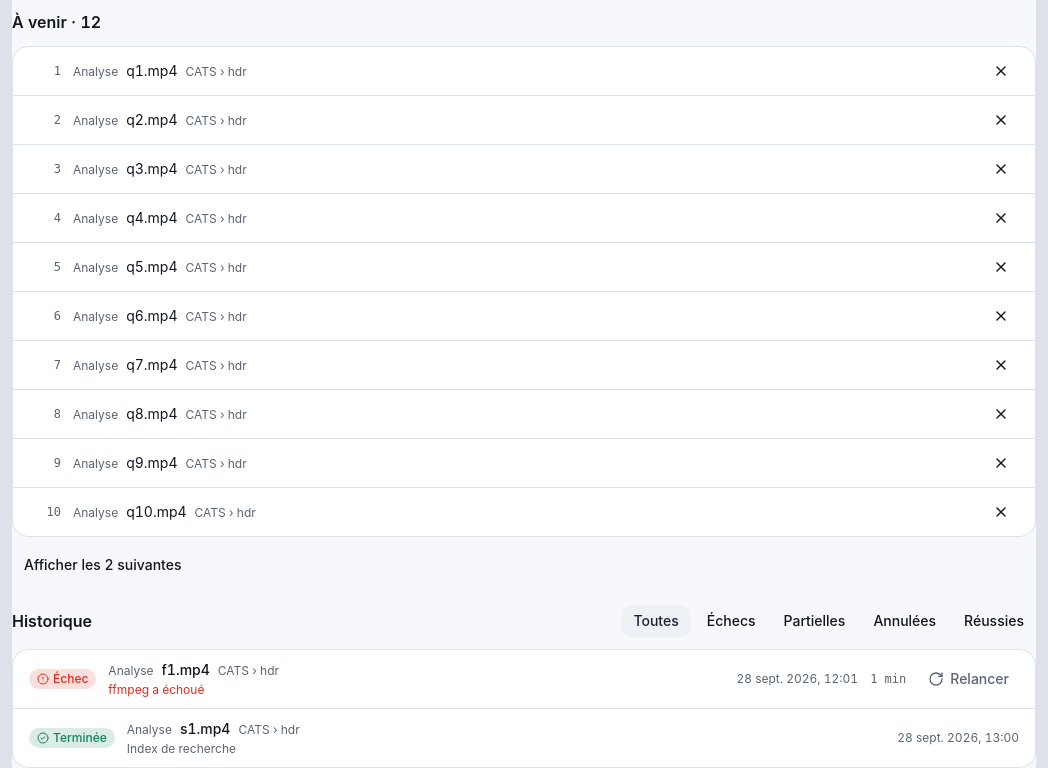
JobsPage › filters the history and retries only what can be run again
(page scrolled)
Expected: the text "ffmpeg a échoué" is shown, [108,682,204,697]
Expected: the text "1 min" is shown, [870,671,906,687]
Click the button "Relancer" at [969, 679], box [918,663,1019,695]
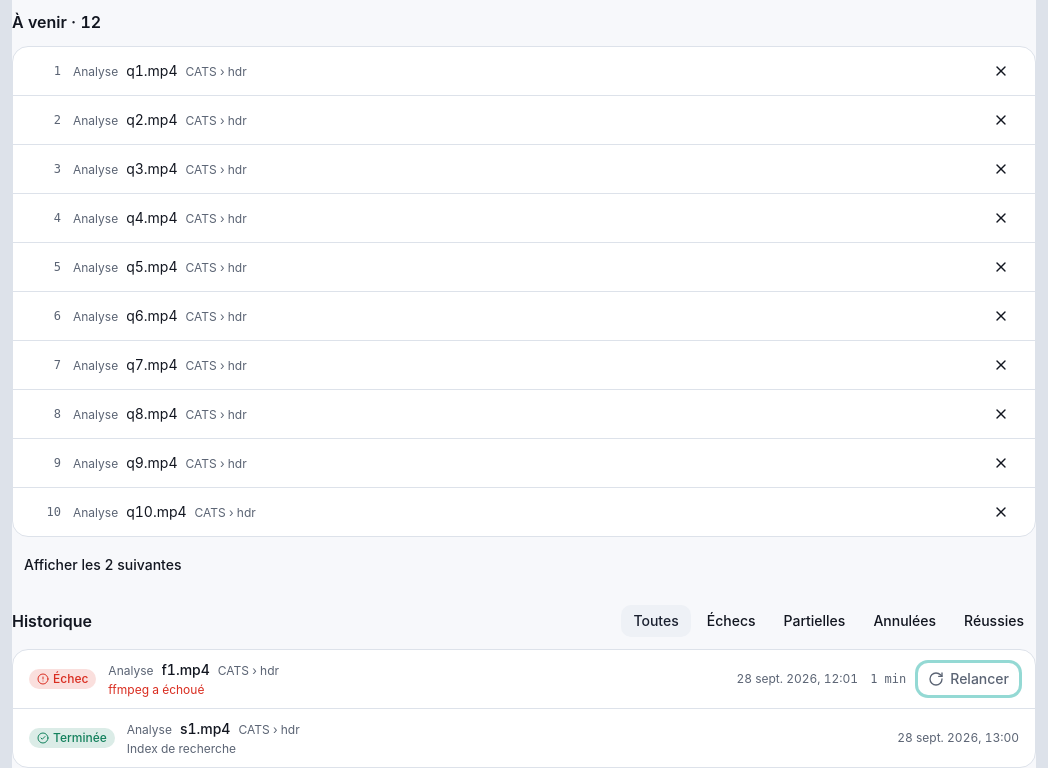
Click the button "Échecs" at [731, 621], box [695,605,768,637]
(page scrolled)
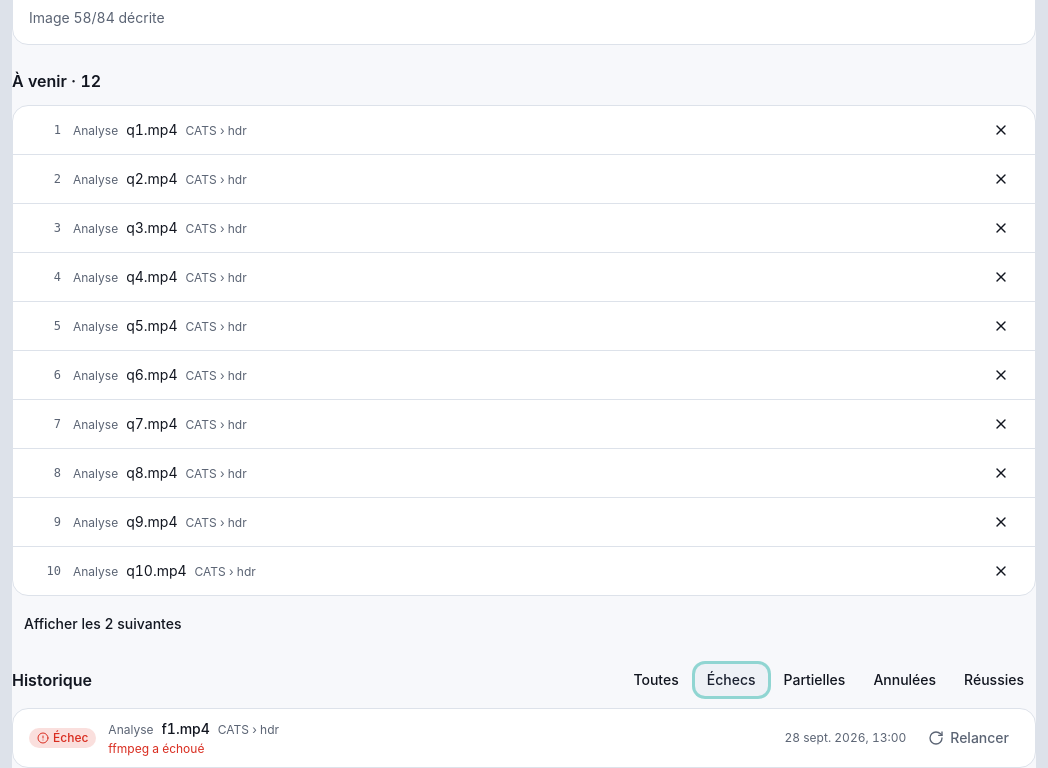
Result: the link "s1.mp4" is gone
